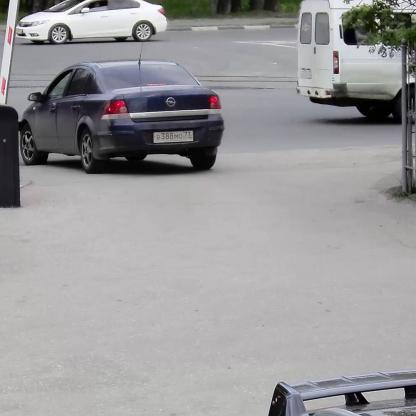plate: (153, 130, 193, 143)
